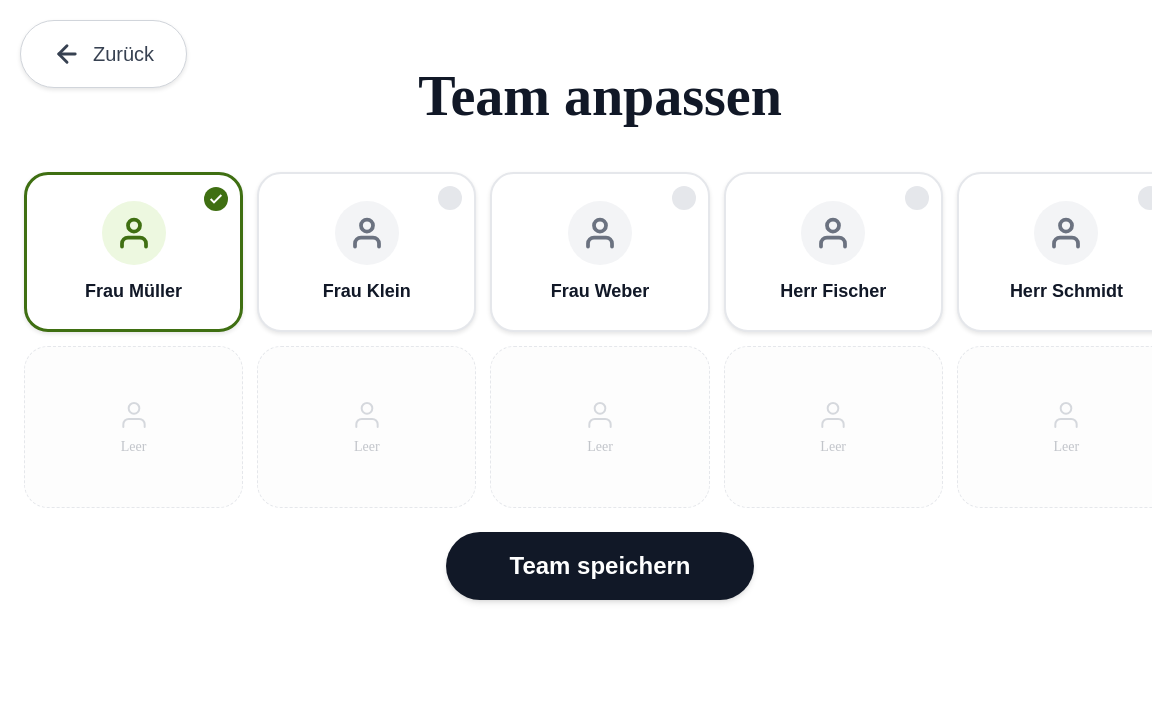
TeamManagementPage › shows success modal with "Team erfolgreich gespeichert!" when saving without active session
Click the button "Team speichern" at (600, 566), box [446, 532, 754, 600]
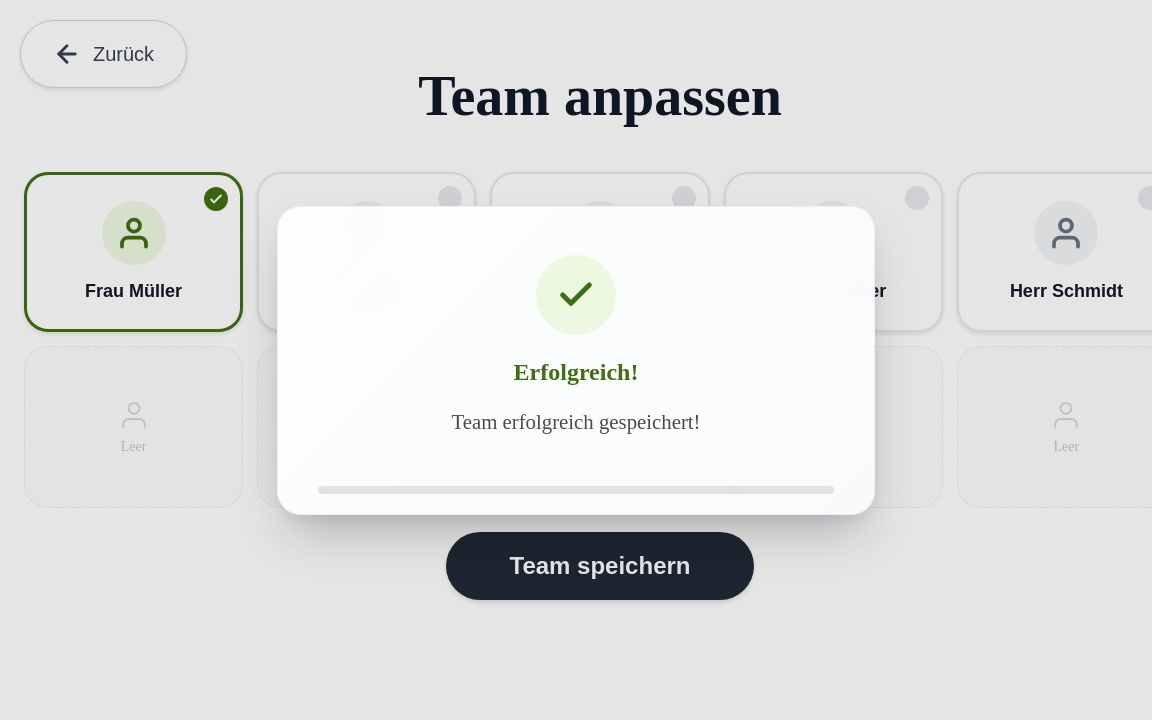
expect the text "Team erfolgreich gespeichert!" is shown: met, box [451, 410, 700, 432]
